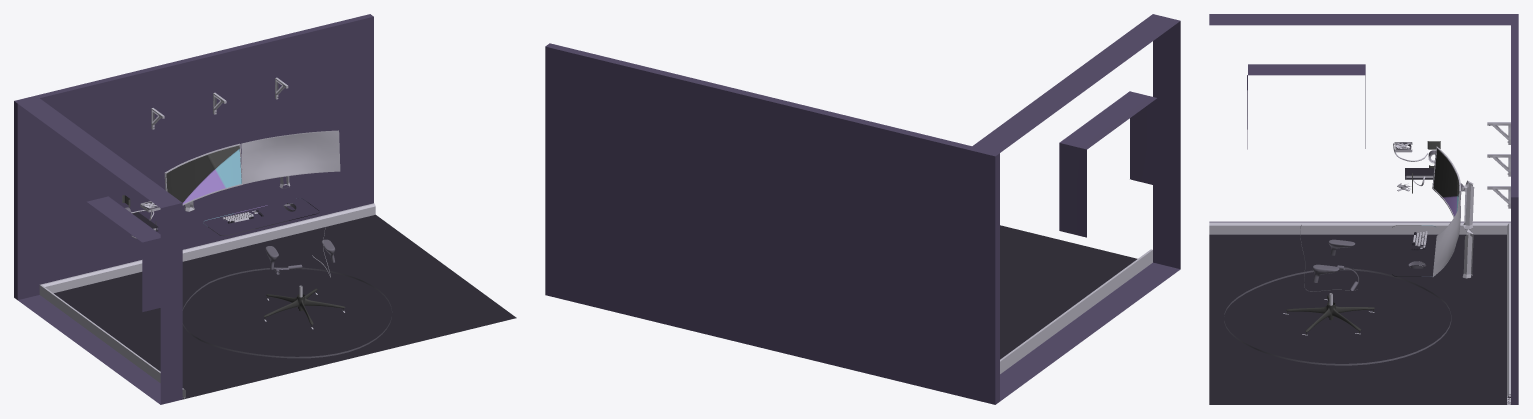
Rendered from object_3_lev1.glb.
3 views of the same model, side by side, from view 1: azimuth 30°, elevation 25°; view 2: azimuth 150°, elevation 25°; view 3: azimuth 270°, elevation 25° (orthographic). The views are drawn at different scales.
Visible parts, largest first — view 1: object_3_lev1; view 2: object_3_lev1; view 3: object_3_lev1.
Boxes of the visible parts, box(x1,y1,x2,y2) form: object_3_lev1: box(14, 14, 516, 404); object_3_lev1: box(545, 14, 1180, 404); object_3_lev1: box(1209, 14, 1518, 404).
Bounding box in the file's own units: 28.44 × 15 × 20.28.
1 material, 1 textured.
